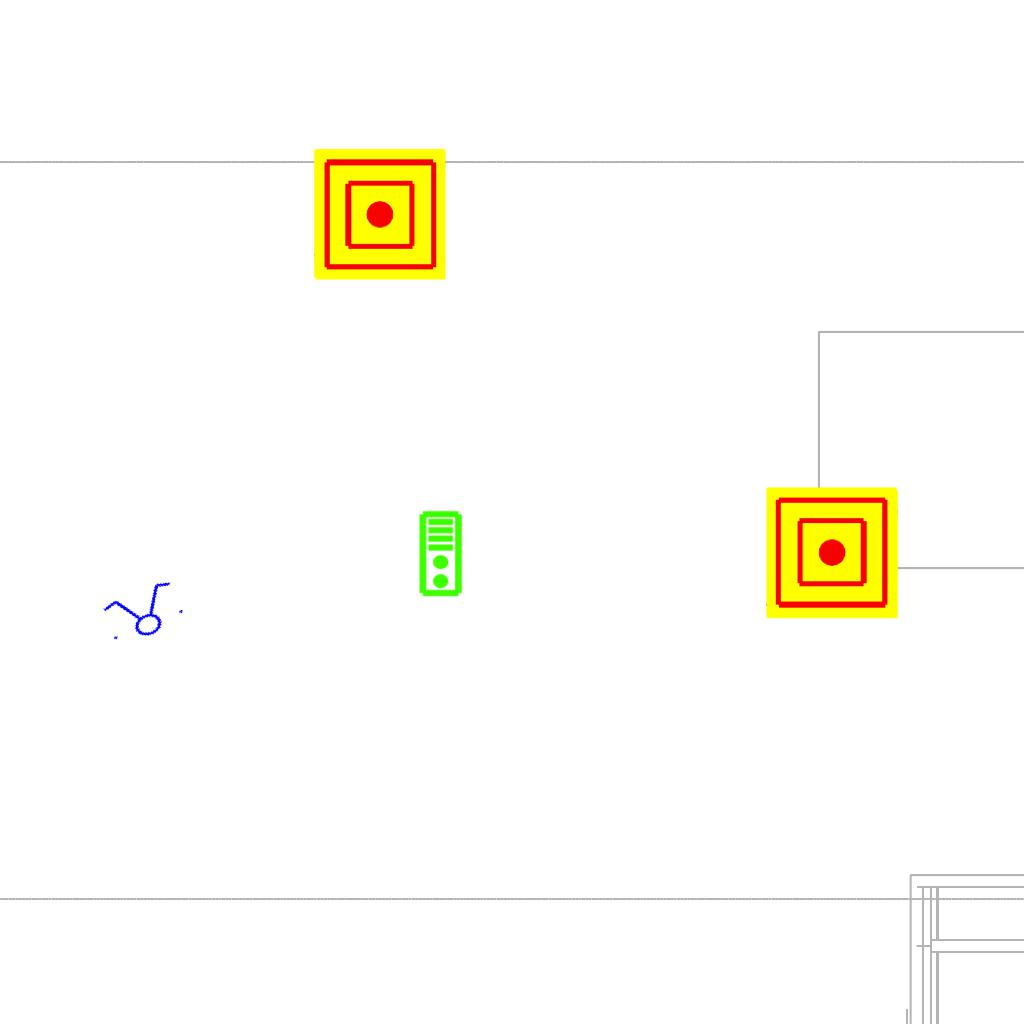Gegensprechanlage_mit_Video: (418, 510, 465, 598)
NAM-Nichtautomatischer_Melder: (314, 148, 446, 280), (766, 487, 898, 619)
Serienschalter: (95, 575, 191, 651)
